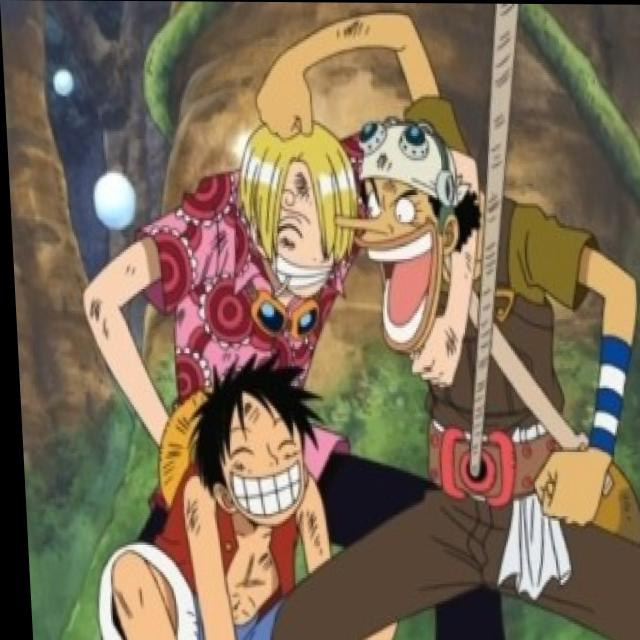Luffy: (183, 362, 323, 532)
Sangdi: (219, 96, 362, 316)
Usopp: (331, 99, 466, 356)
